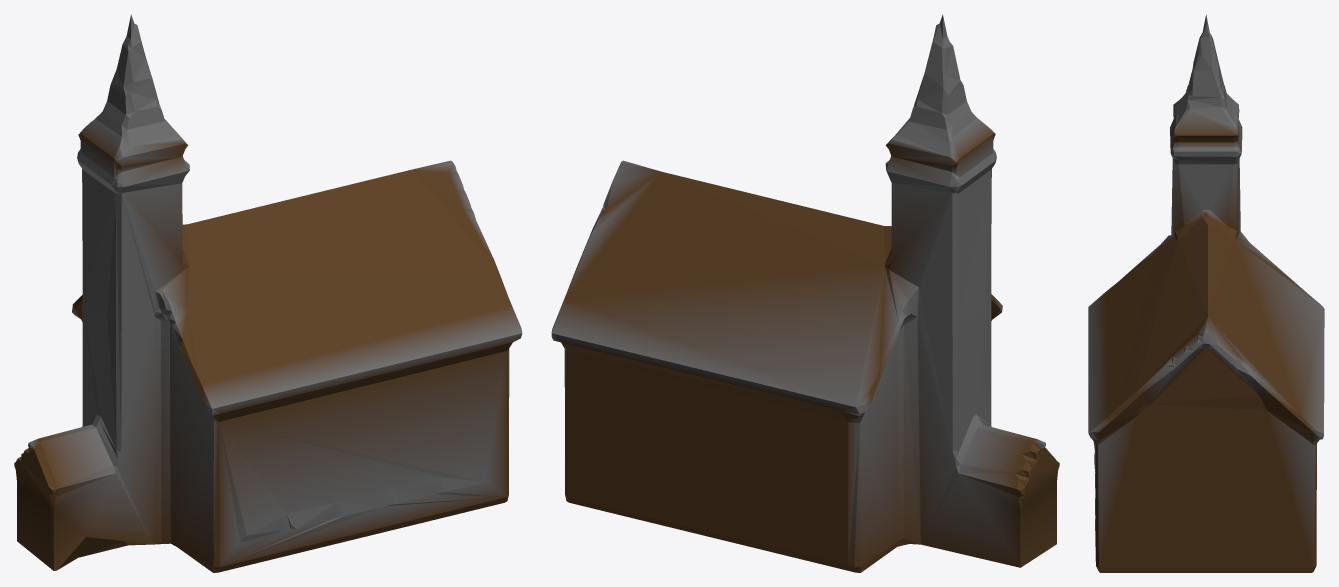
Rendered from Churches(3).glb.
3 views of the same model, side by side, from view 1: azimuth 30°, elevation 25°; view 2: azimuth 150°, elevation 25°; view 3: azimuth 270°, elevation 25° (orthographic). The views are drawn at different scales.
Visible parts, largest first — view 1: Root; view 2: Root; view 3: Root.
Boxes of the visible parts, x1,y1,x2,y2 form: Root: (14, 14, 522, 572); Root: (551, 14, 1059, 572); Root: (1088, 14, 1324, 572).
Bounding box in the file's own units: 12.62 × 14.71 × 7.25.
